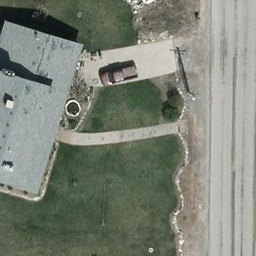car: (103, 65, 139, 83)
